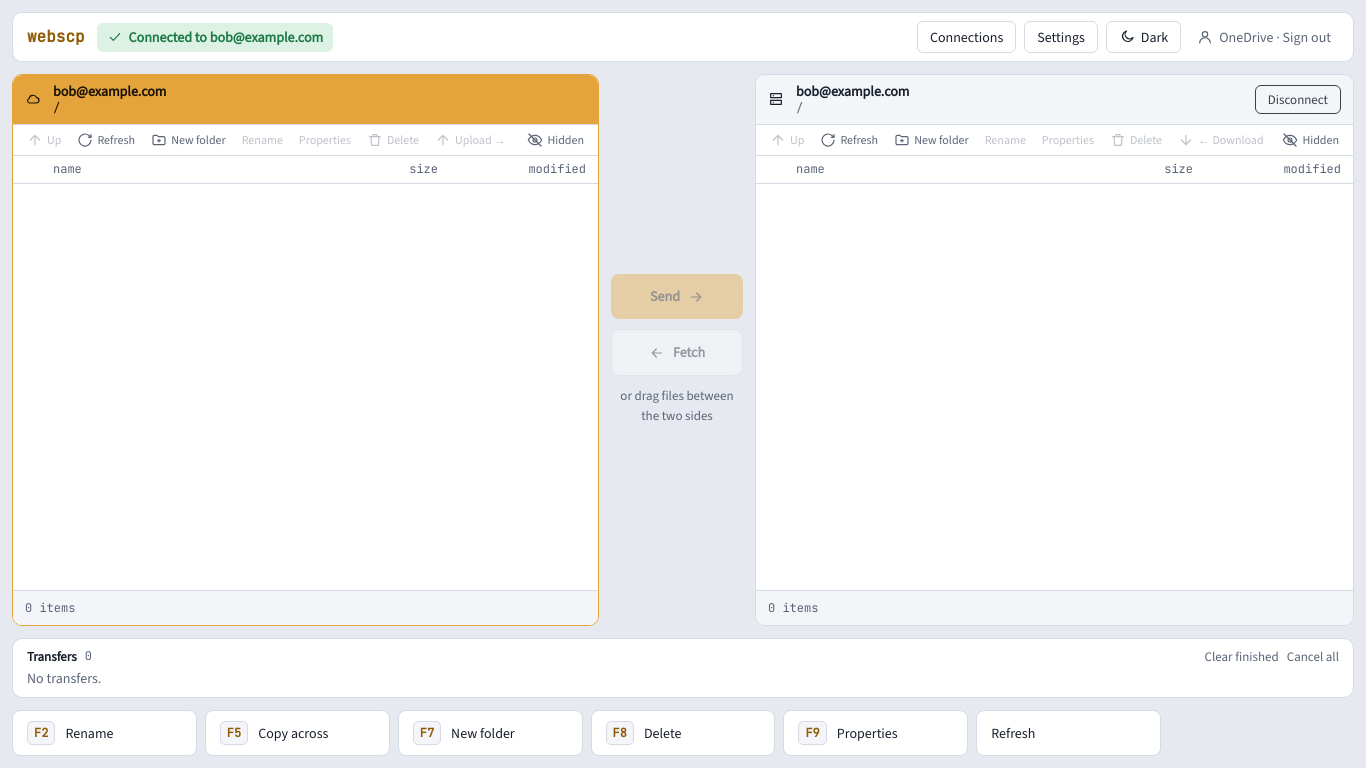
Commander Send/Fetch and function keys › the command bar button runs the same command
Click the button "F7 New folder": click(490, 733) [398,710,583,756]
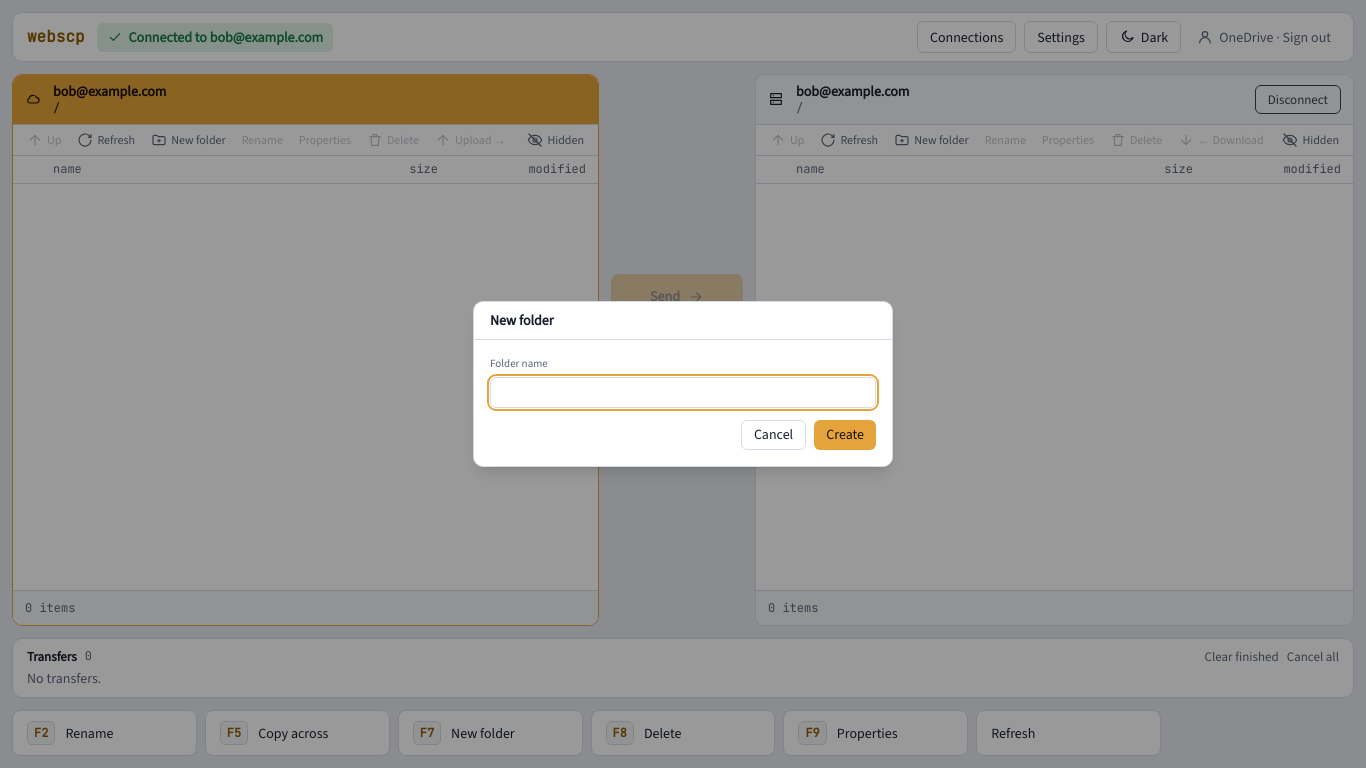
expect the text "Folder name" is shown: met, box [490,356,548,371]
